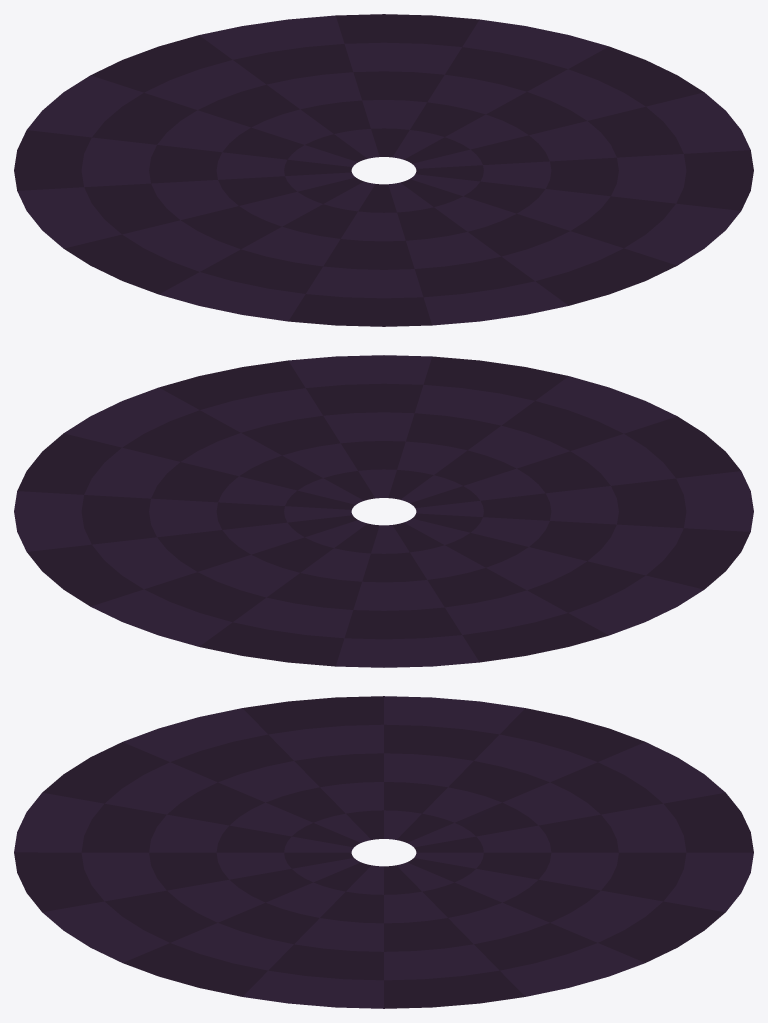
File: W4_Ground_Skirt.fbx
3 views of the same model, one above another, from view 1: azimuth 30°, elevation 25°; view 2: azimuth 150°, elevation 25°; view 3: azimuth 270°, elevation 25° (orthographic).
Parts seen in each view (by area): view 1: W4_Ground_Skirt; view 2: W4_Ground_Skirt; view 3: W4_Ground_Skirt.
Boxes of the visible parts, box(x1,y1,x2,y2) form: W4_Ground_Skirt: box(14, 14, 753, 326); W4_Ground_Skirt: box(14, 355, 753, 667); W4_Ground_Skirt: box(14, 696, 753, 1008).
Bounding box in the file's own units: 6400 × 2.26 × 6400.
